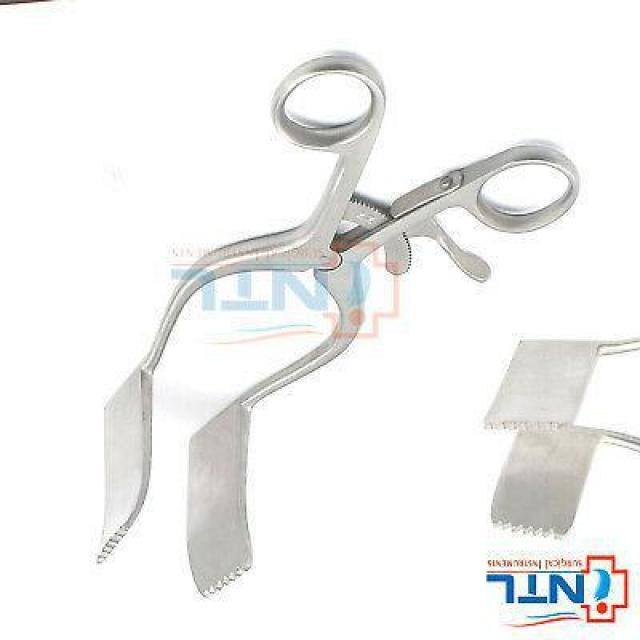Weitlaner: (94, 49, 584, 604), (480, 334, 637, 542)
